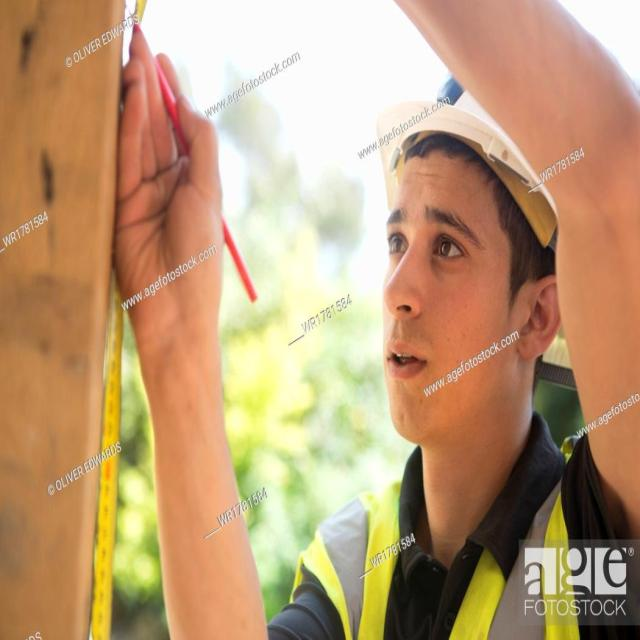helmet: (365, 95, 558, 248)
no-goggles: (377, 210, 483, 286)
vest: (294, 432, 586, 640)
